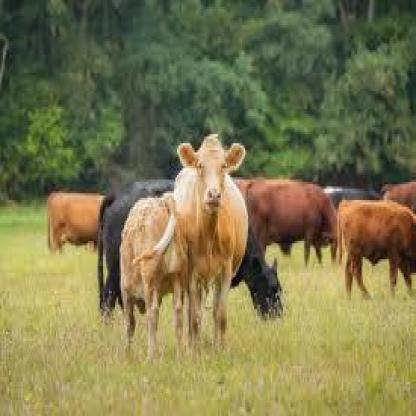cow: (98, 180, 284, 341), (173, 134, 249, 359), (120, 190, 189, 369), (237, 179, 339, 267), (339, 198, 416, 300), (46, 191, 105, 255), (324, 186, 381, 210), (381, 182, 416, 214)
